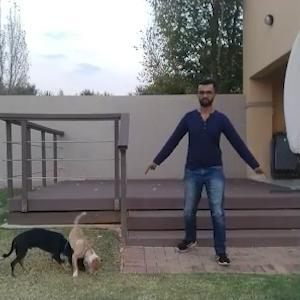land: (145, 82, 282, 270)
